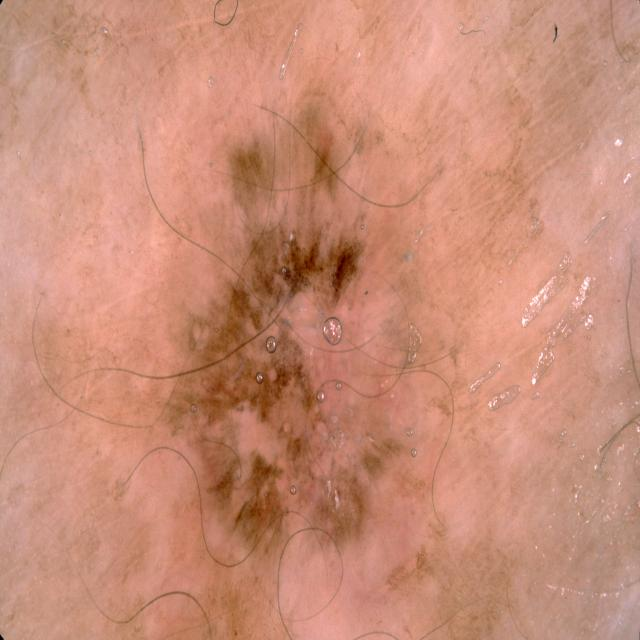Skin-Cancer Squamous cell carcinoma: (90, 99, 640, 640)
